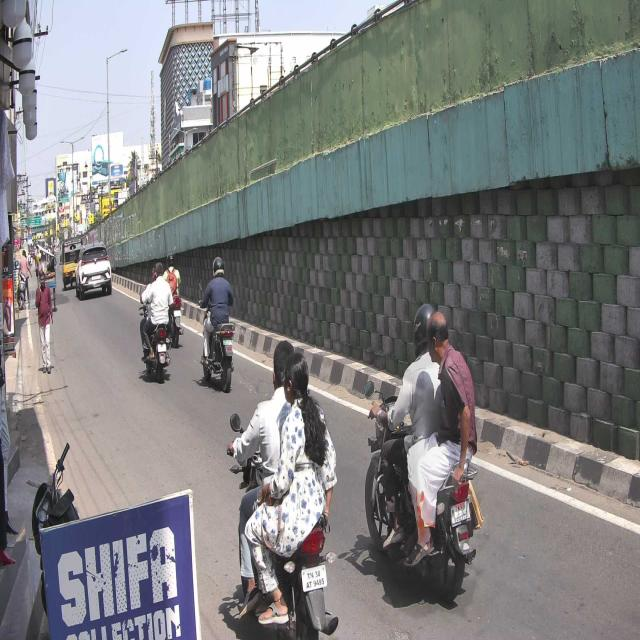double_rider: (364, 301, 476, 607), (228, 338, 340, 640)
